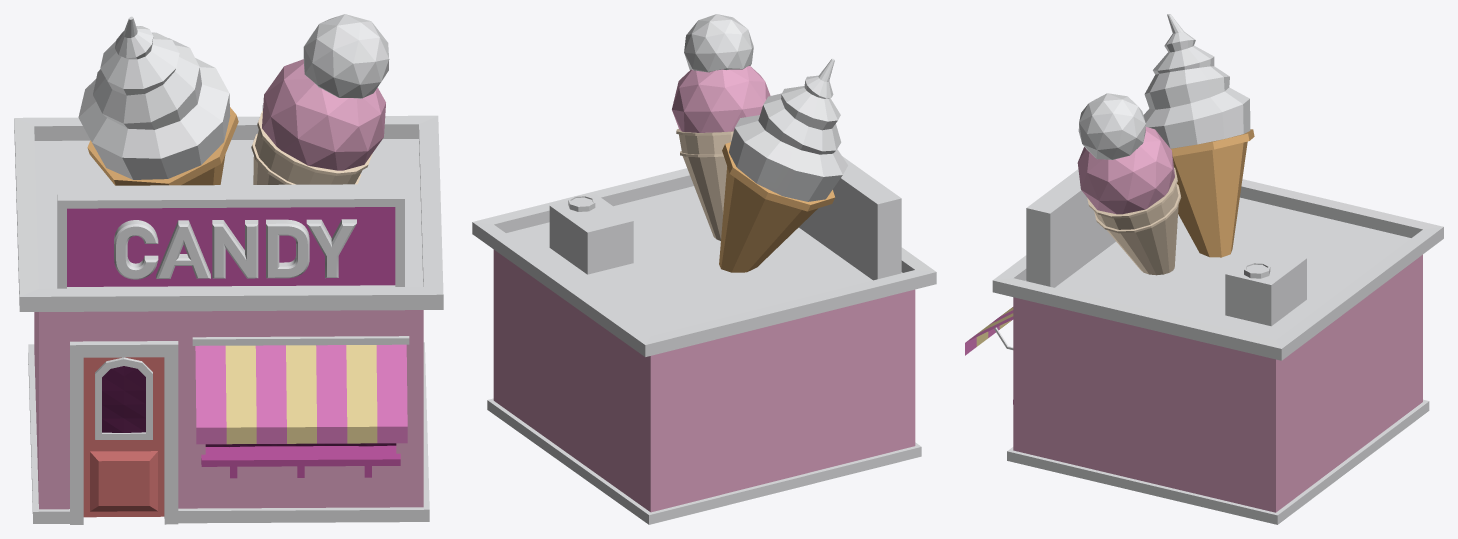
The model's file is can.glb.
3 views of the same model, side by side, from view 1: azimuth 30°, elevation 25°; view 2: azimuth 150°, elevation 25°; view 3: azimuth 270°, elevation 25° (orthographic). The views are drawn at different scales.
Parts seen in each view (by area): view 1: Object_11, Object_8, Object_9, Object_2, Object_3, Object_10, Object_7, Object_4.001, Object_6, Object_5; view 2: Object_8, Object_11, Object_5, Object_6; view 3: Object_8, Object_11, Object_5, Object_6.
Part boxes in pixels (bbox=[...]): Object_11: bbox=[14, 14, 443, 524]; Object_8: bbox=[34, 59, 423, 509]; Object_9: bbox=[67, 207, 400, 478]; Object_2: bbox=[195, 344, 407, 444]; Object_3: bbox=[225, 345, 377, 444]; Object_10: bbox=[114, 219, 356, 279]; Object_7: bbox=[83, 357, 164, 517]; Object_4.001: bbox=[102, 366, 396, 446]; Object_6: bbox=[251, 111, 372, 184]; Object_5: bbox=[87, 107, 238, 185]; Object_8: bbox=[493, 65, 915, 512]; Object_11: bbox=[472, 14, 936, 524]; Object_5: bbox=[719, 142, 835, 272]; Object_6: bbox=[676, 129, 733, 240]; Object_8: bbox=[1013, 127, 1422, 512]; Object_11: bbox=[992, 14, 1443, 524]; Object_5: bbox=[1171, 129, 1254, 257]; Object_6: bbox=[1087, 167, 1181, 275].
Bounding box in the file's own units: 30.17 × 27.49 × 32.02.
